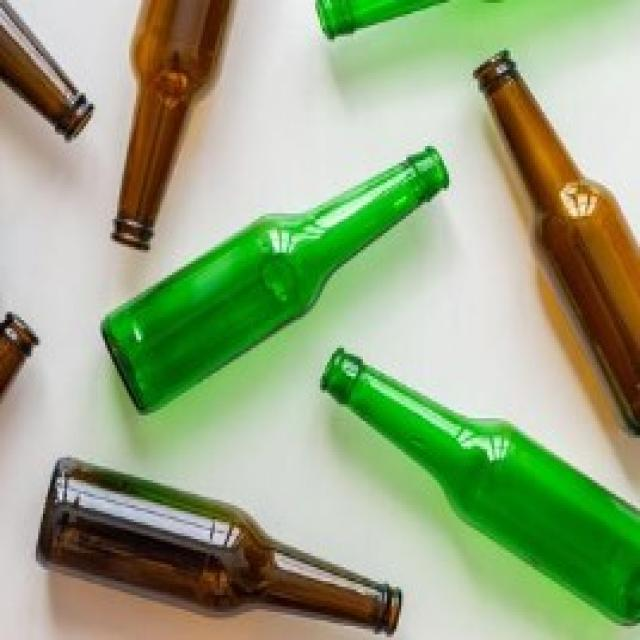electronic: (305, 332, 640, 624), (105, 143, 451, 415), (31, 446, 404, 640), (472, 48, 640, 436), (111, 0, 238, 253)
